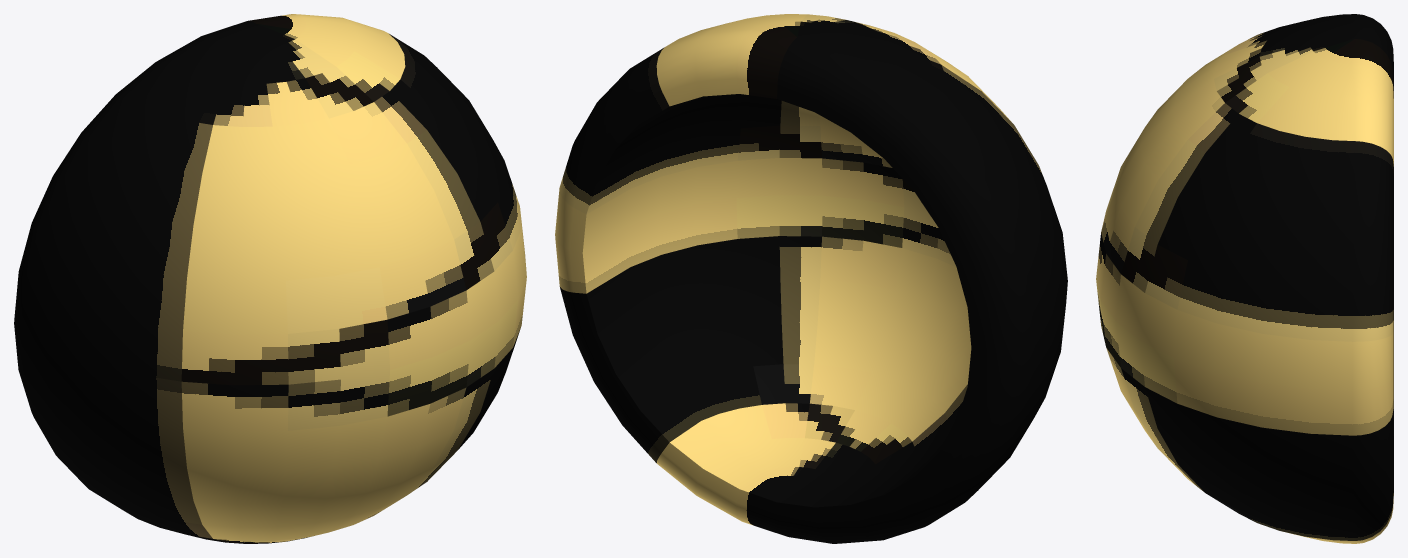
Rendered from award_copter_ball_b.fbx.
The picture shows the model from 3 angles, left to right: view 1: azimuth 30°, elevation 25°; view 2: azimuth 150°, elevation 25°; view 3: azimuth 270°, elevation 25°; orthographic projection. The views are drawn at different scales.
Visible parts, largest first — view 1: copter_ball_B; view 2: copter_ball_B; view 3: copter_ball_B.
Part boxes in pixels (x1,y1,x2,y2): copter_ball_B: [14, 14, 526, 543]; copter_ball_B: [555, 14, 1067, 543]; copter_ball_B: [1096, 14, 1393, 543].
Size of the model in its own units: 164 by 164 by 91.99.
